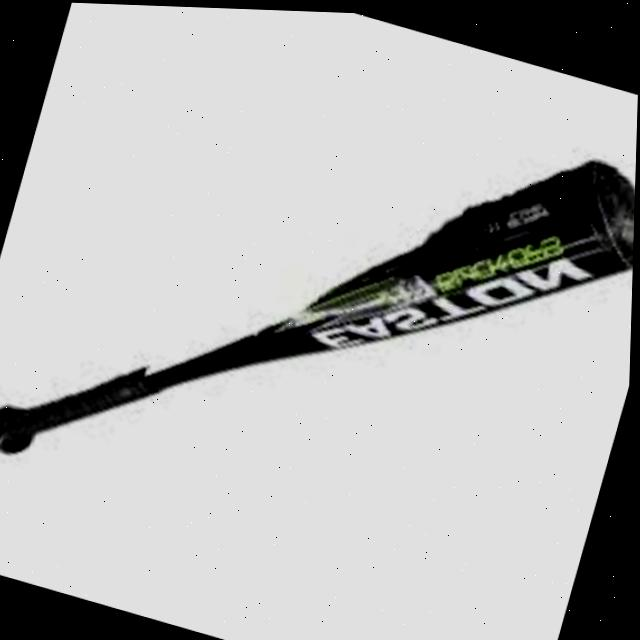baseball bat: (0, 145, 636, 452)
